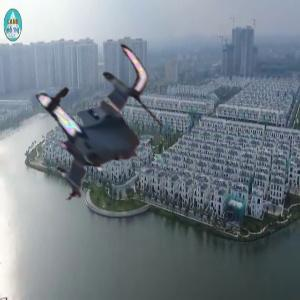drone: (15, 41, 178, 204)
